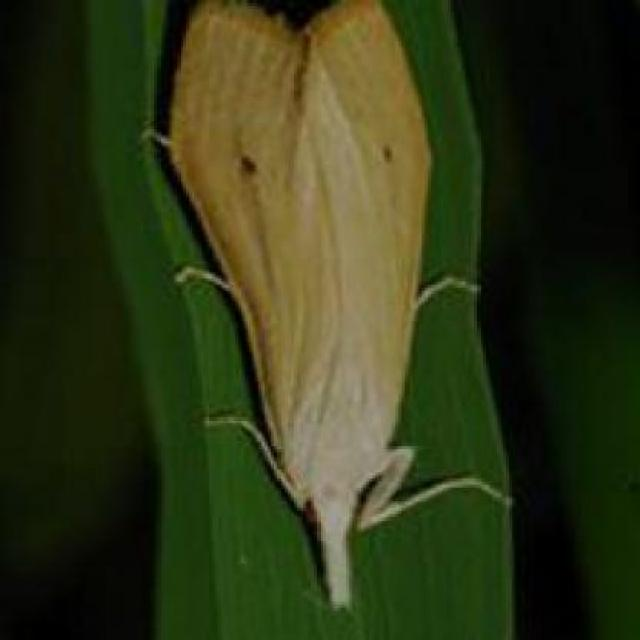stem-borer: (137, 0, 512, 608)
